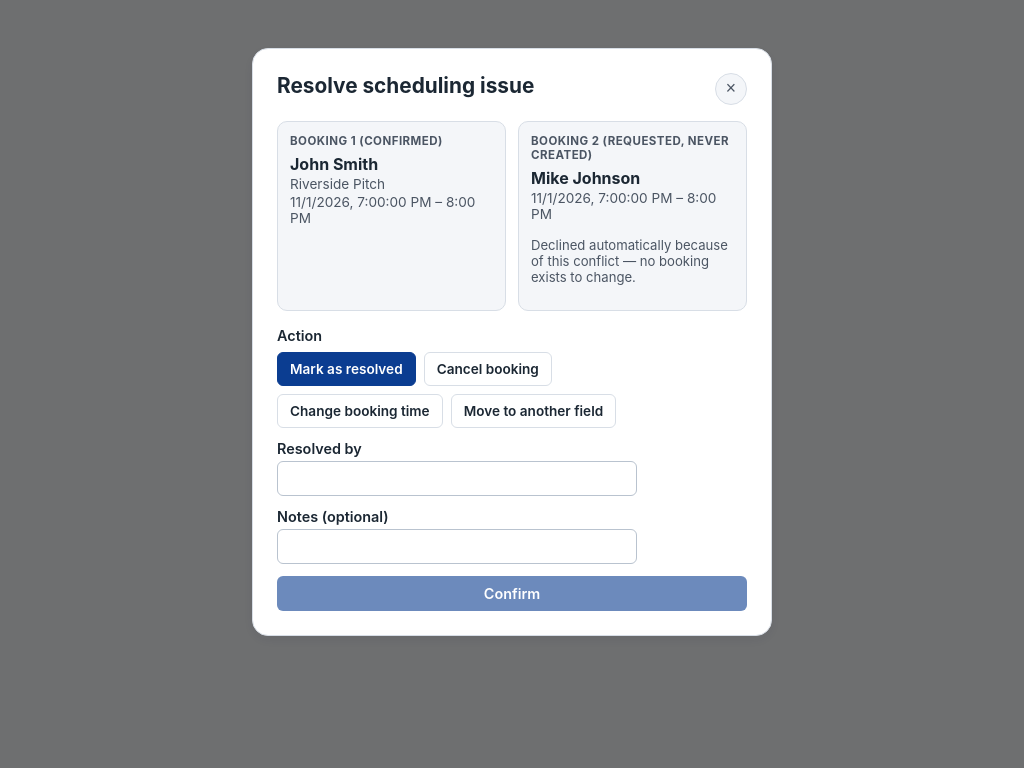
Test: ResolveIssueModal › if cancelling the booking fails, it stops there and does not attempt to create a new one or resolve the issue
The image size is (1024, 768).
Click the button "Cancel booking". click: (488, 369)
box: [424,352,552,386]
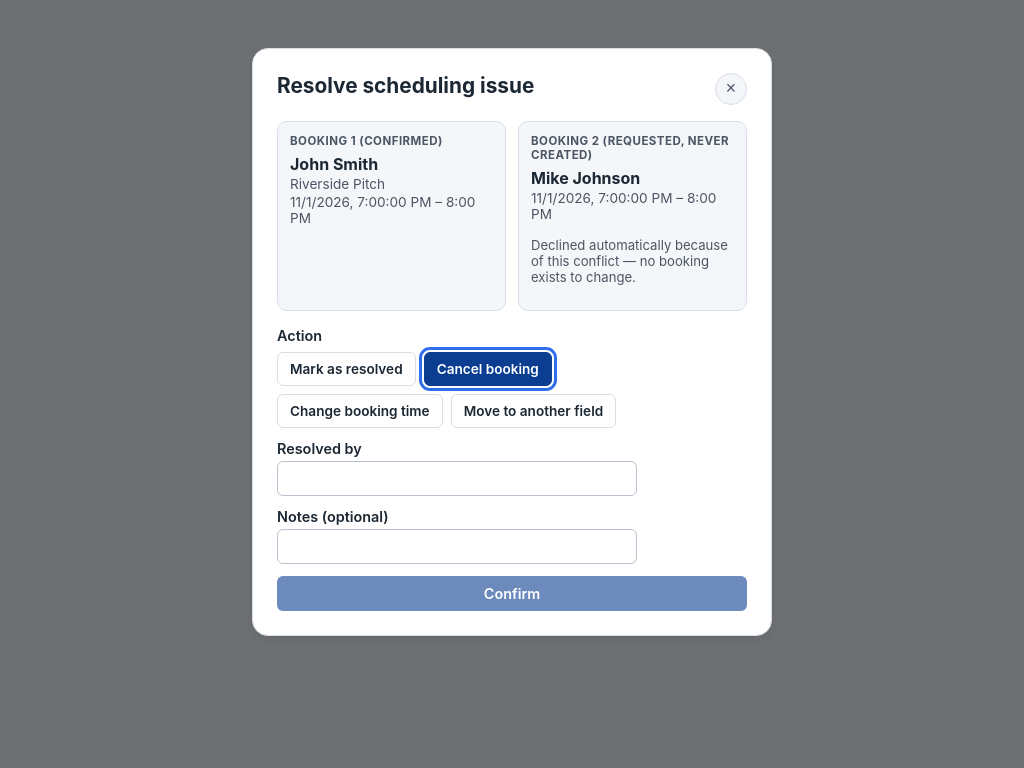
Type "Manager Mo" into the field labelled "Resolved by". click: (457, 479)
box: [277,461,637,496]
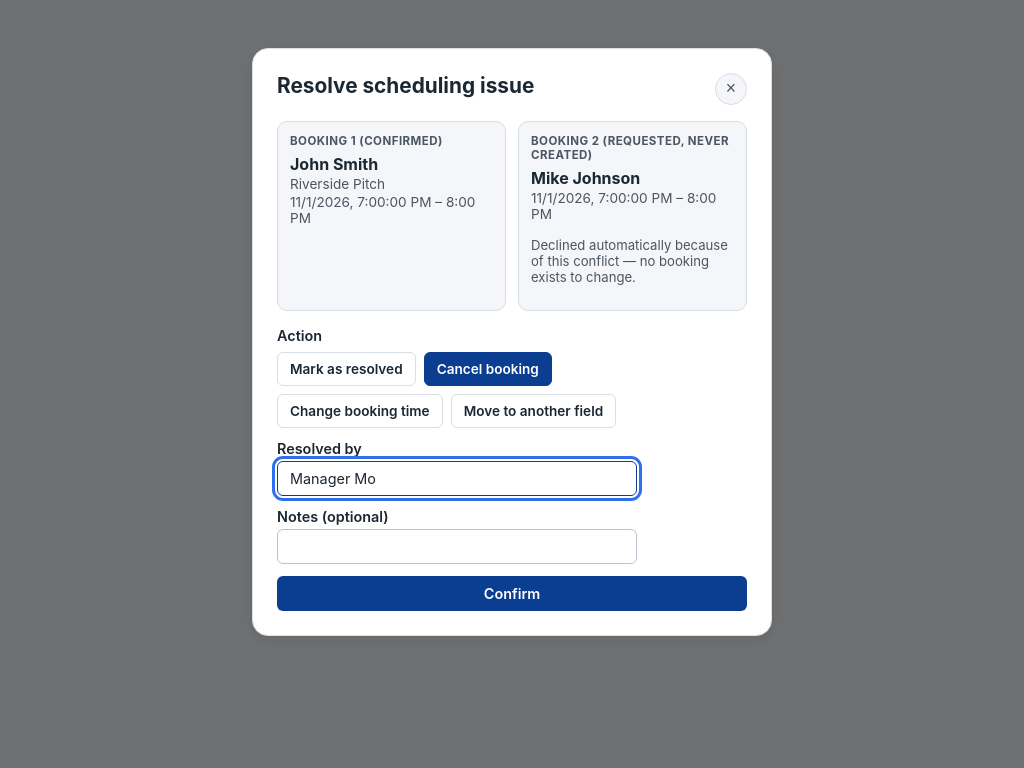
Click the button "Confirm". click: (512, 594)
box: [277,576,747,611]
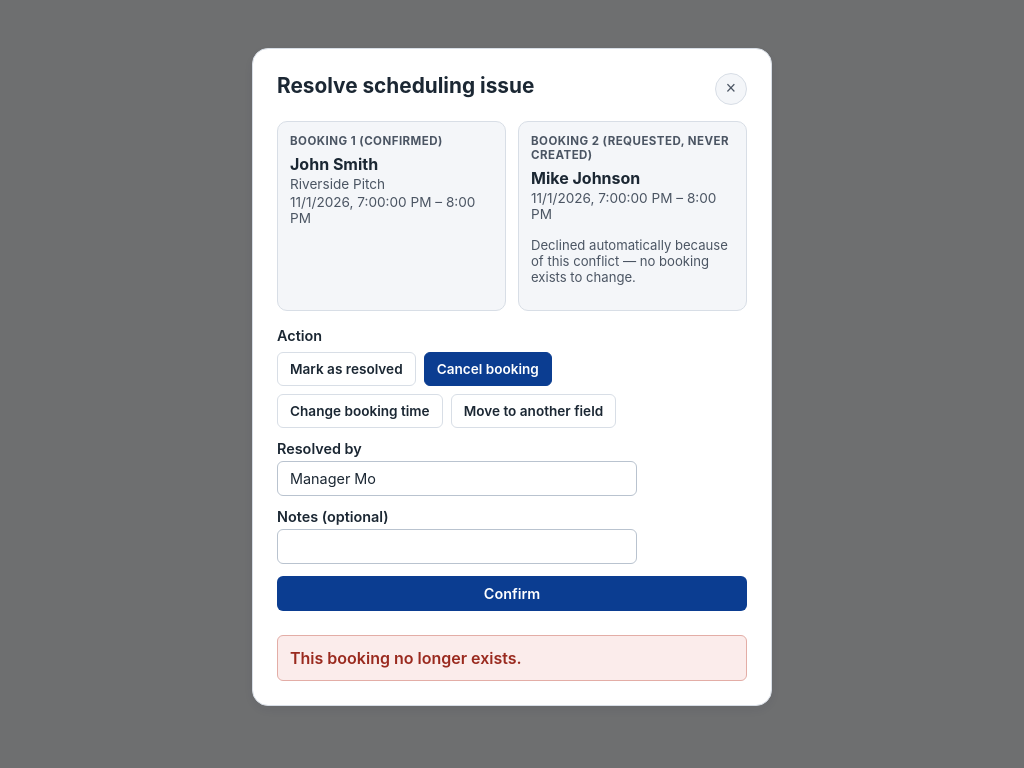
Expected: the message shows "no longer exists", [290,648,522,668]
